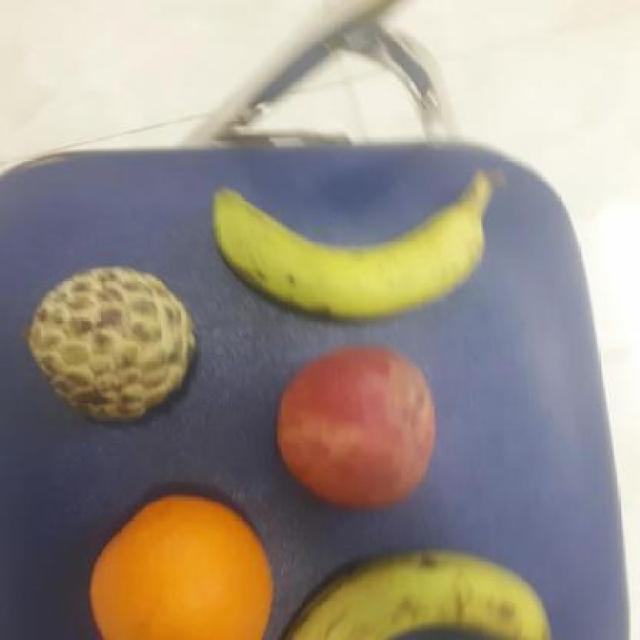apple: (270, 341, 442, 508)
banana: (208, 168, 508, 320), (270, 541, 555, 640)
oren: (84, 492, 281, 640)
sugar apple: (24, 261, 204, 428)
